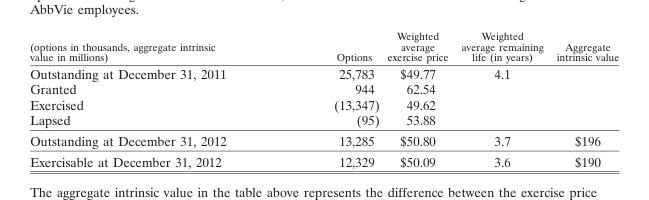table: (29, 29, 618, 169)
table column: (29, 29, 279, 169), (279, 29, 382, 169), (453, 29, 549, 169), (382, 29, 453, 169), (549, 29, 618, 169)
table column header: (29, 29, 618, 64)
table row: (29, 29, 618, 64), (29, 130, 618, 150), (29, 150, 618, 169), (29, 112, 618, 130), (29, 64, 618, 81), (29, 96, 618, 112), (29, 81, 618, 96)
